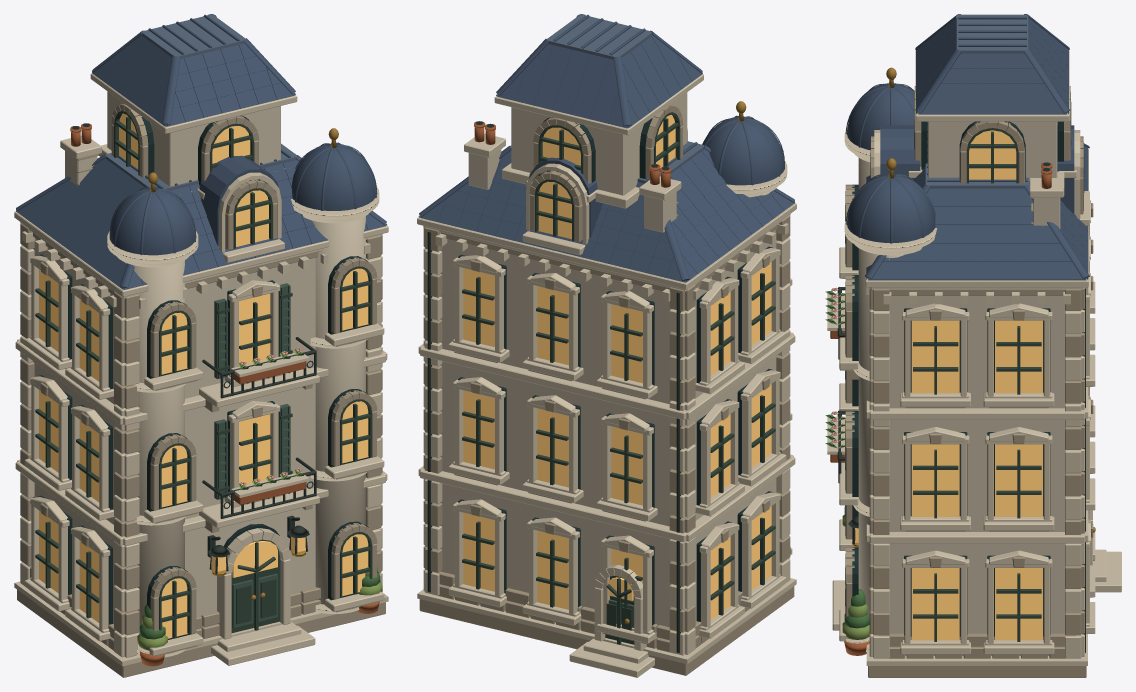
The picture shows the model from 3 angles, left to right: view 1: azimuth 30°, elevation 25°; view 2: azimuth 150°, elevation 25°; view 3: azimuth 270°, elevation 25°; orthographic projection. The views are drawn at different scales.
Visible parts, largest first — view 1: classic_tower_3_geometry, classic_tower_3_geometry ceramic; view 2: classic_tower_3_geometry, classic_tower_3_geometry ceramic; view 3: classic_tower_3_geometry, classic_tower_3_geometry ceramic.
Boxes of the visible parts, x1,y1,x2,y2 form: classic_tower_3_geometry: [14, 73, 388, 677]; classic_tower_3_geometry ceramic: [16, 14, 386, 289]; classic_tower_3_geometry: [417, 74, 796, 677]; classic_tower_3_geometry ceramic: [418, 14, 794, 282]; classic_tower_3_geometry: [825, 50, 1121, 677]; classic_tower_3_geometry ceramic: [845, 14, 1089, 280].
Bounding box in the file's own units: 0.9055 × 1.76 × 0.8136.
